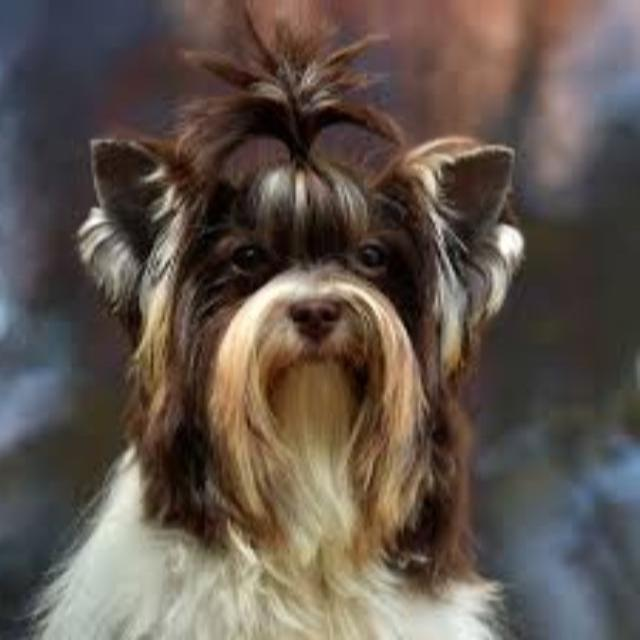dog: (65, 42, 568, 492)
